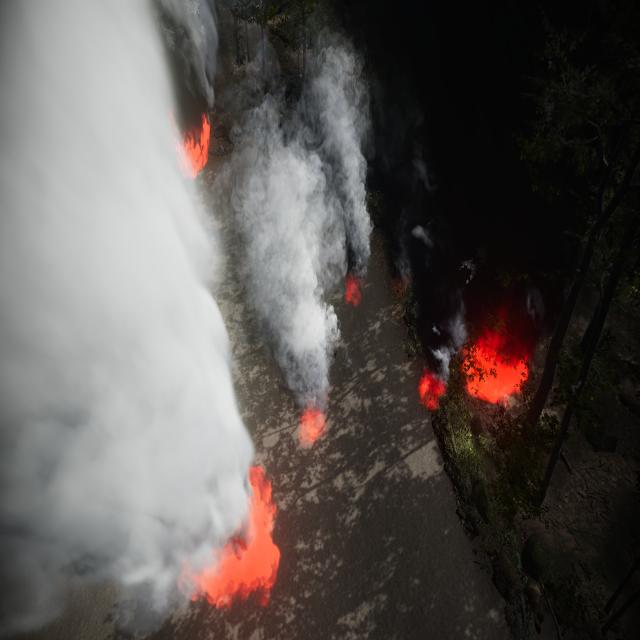Human: (301, 309, 358, 364)
